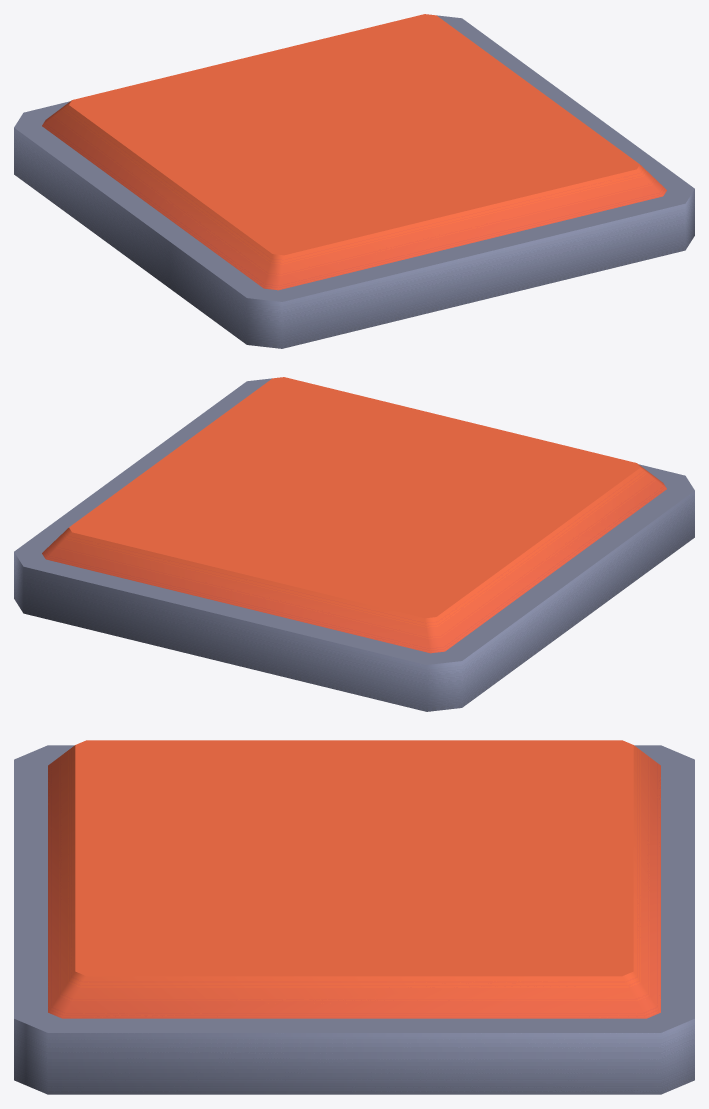
File: button-floor-square.glb
3 views of the same model, one above another, from view 1: azimuth 30°, elevation 25°; view 2: azimuth 150°, elevation 25°; view 3: azimuth 270°, elevation 25° (orthographic). The views are drawn at different scales.
Parts seen in each view (by area): view 1: button-col.002, button-floor-square-col; view 2: button-col.002, button-floor-square-col; view 3: button-col.002, button-floor-square-col.
Boxes of the visible parts, box(x1,y1,x2,y2) form: button-col.002: box(42, 14, 666, 290); button-floor-square-col: box(14, 15, 694, 348); button-col.002: box(42, 377, 666, 653); button-floor-square-col: box(14, 378, 694, 711); button-col.002: box(48, 740, 660, 1018); button-floor-square-col: box(14, 745, 694, 1094).
Size of the model in its own units: 1 by 0.15 by 1.
Materials: 1 (1 with a texture image).
